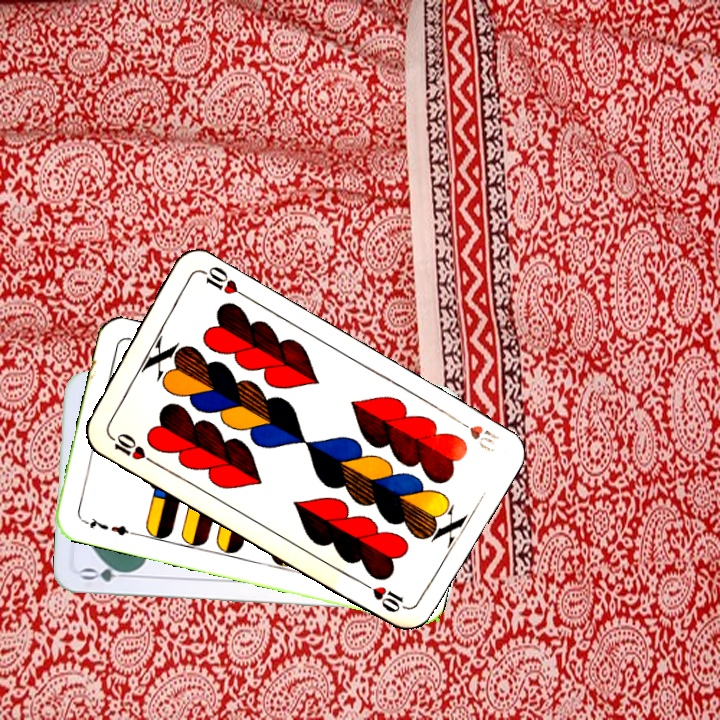E7: (78, 513, 137, 538)
GO: (78, 563, 137, 584)
H10: (449, 413, 503, 455), (103, 428, 157, 466)
